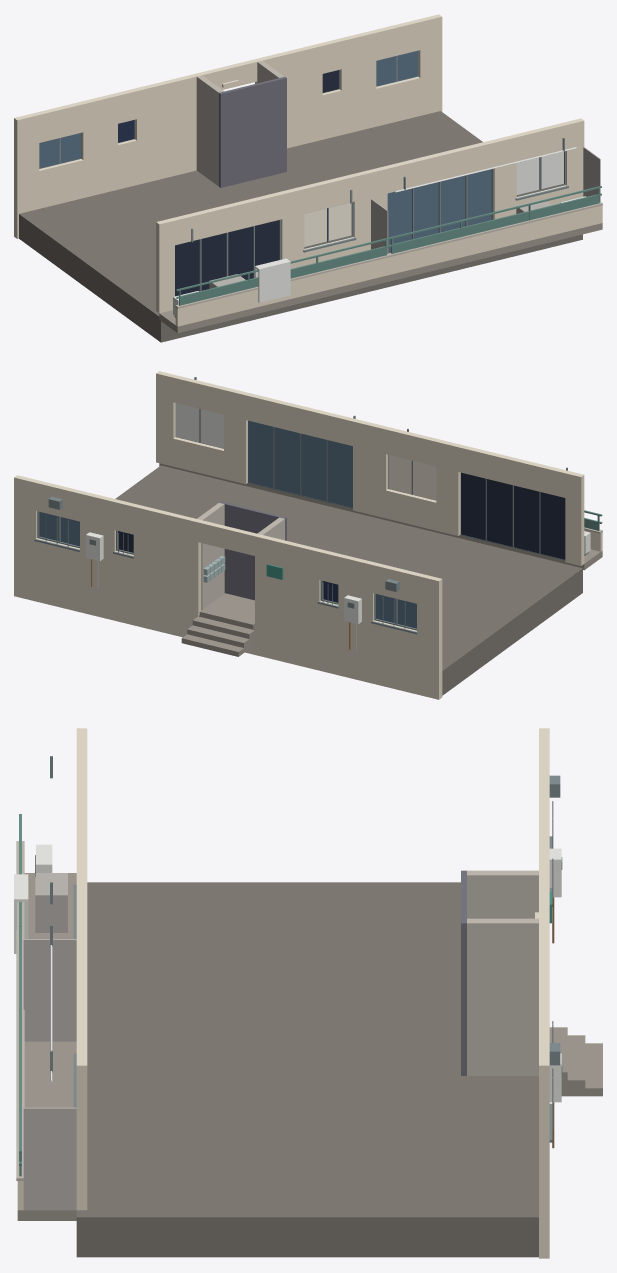
The model's file is tb_danchi_module_ground_01.fbx.
The picture shows the model from 3 angles, top to bottom: view 1: azimuth 30°, elevation 25°; view 2: azimuth 150°, elevation 25°; view 3: azimuth 270°, elevation 25°; orthographic projection. The views are drawn at different scales.
Parts seen in each view (by area): view 1: tb_danchi_module_ground_01; view 2: tb_danchi_module_ground_01; view 3: tb_danchi_module_ground_01.
Boxes of the visible parts, bbox=[...] form: tb_danchi_module_ground_01: bbox=[14, 14, 602, 342]; tb_danchi_module_ground_01: bbox=[14, 371, 602, 699]; tb_danchi_module_ground_01: bbox=[14, 728, 602, 1258].
Size of what is drawn, in the model's own units: 13.5 by 3.6 by 9.96.
Materials: 3 (3 with a texture image).
